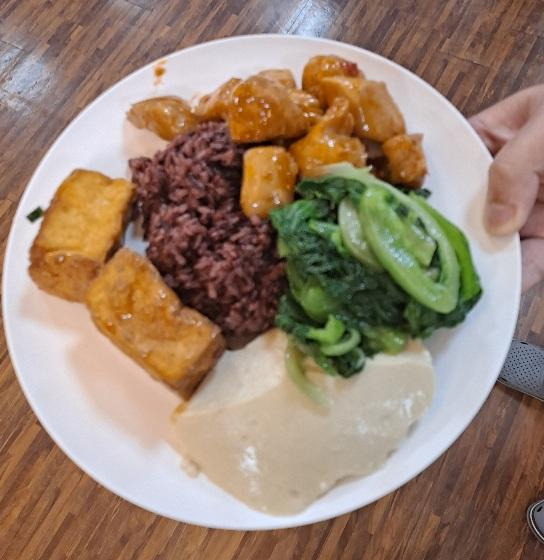big fried chicken leg: (5, 29, 525, 530)
braised fish: (128, 121, 287, 338)
braised fish fillet: (166, 319, 439, 517), (33, 160, 224, 394), (263, 173, 488, 366)
braised pork: (126, 60, 434, 209)
